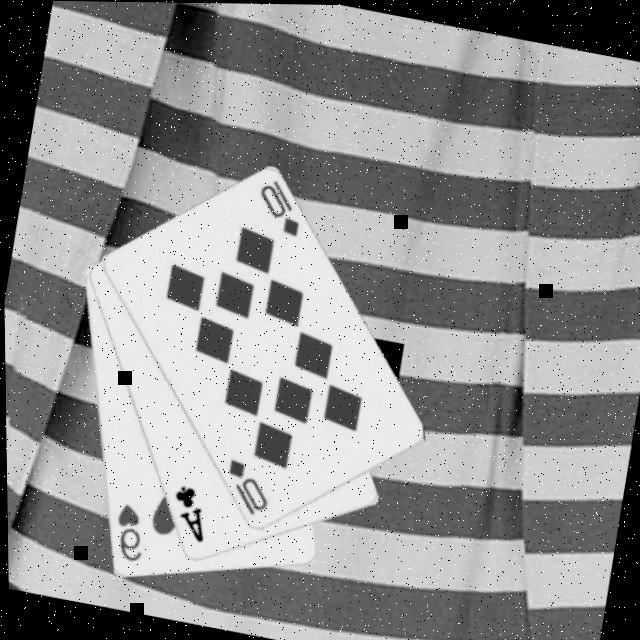10D: (246, 173, 307, 240), (214, 454, 274, 521)
6H: (102, 499, 148, 567)
AC: (159, 480, 212, 547)
